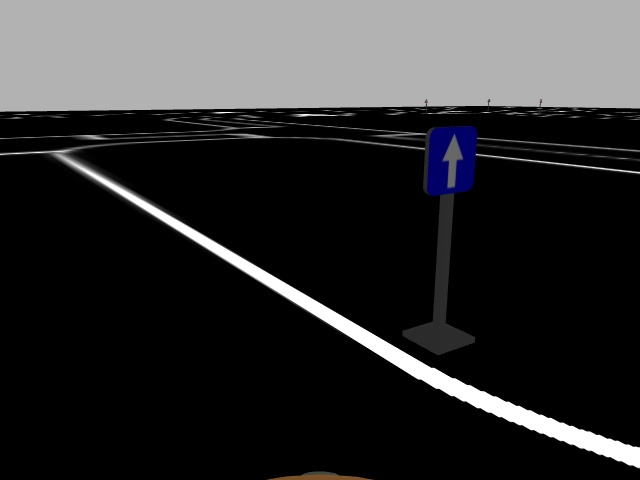oneway: (425, 124, 479, 199)
